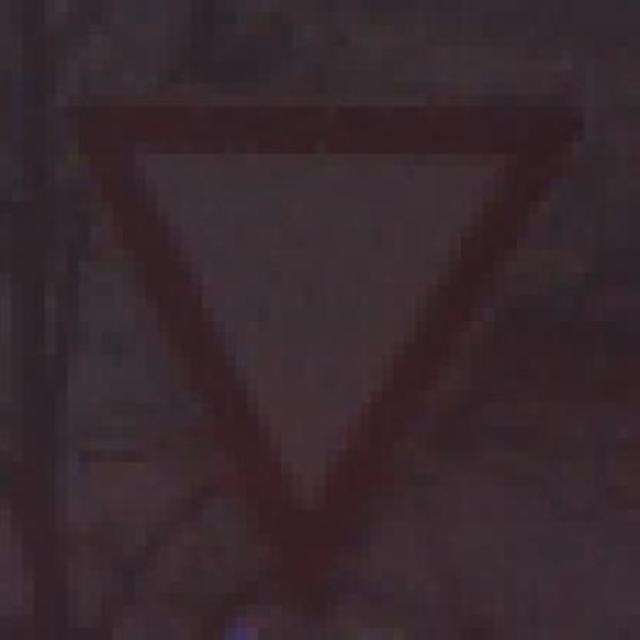Give Way: (79, 59, 606, 593)
